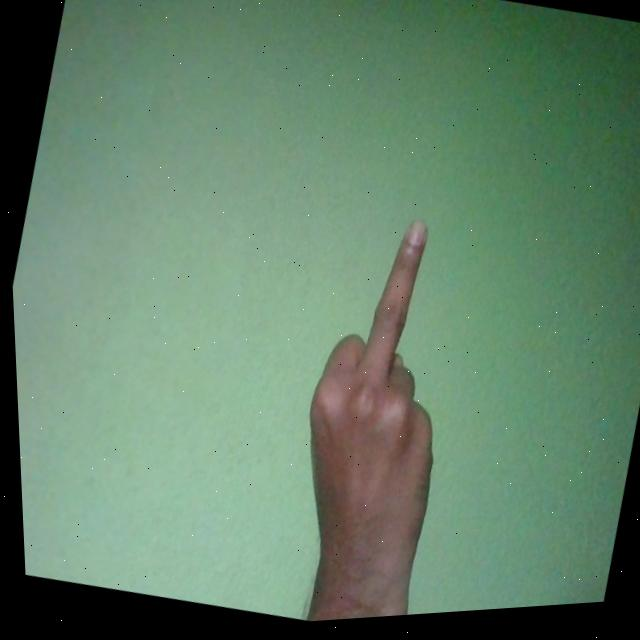Middle Finger: (256, 207, 486, 626)
